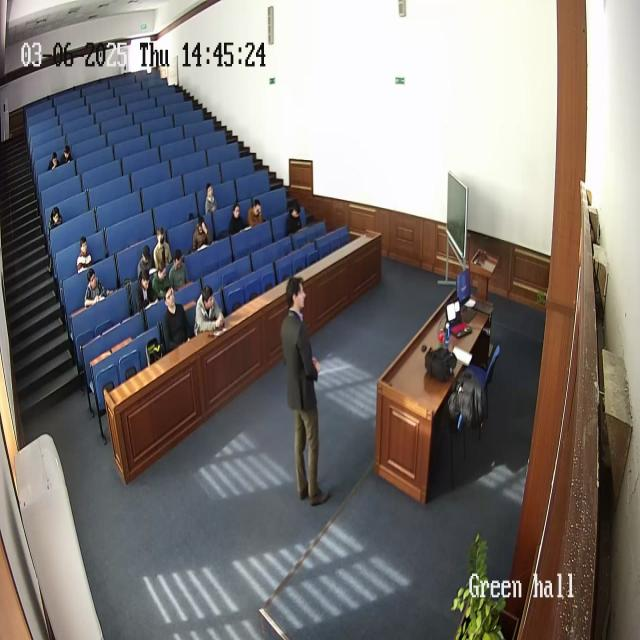person: (280, 273, 328, 503), (158, 283, 190, 353), (194, 285, 224, 335), (135, 267, 157, 313), (84, 268, 108, 308), (152, 253, 172, 299), (152, 226, 172, 269), (168, 248, 188, 289), (76, 238, 96, 275), (192, 216, 212, 252), (137, 245, 155, 283), (228, 202, 248, 235), (286, 202, 304, 235), (247, 197, 264, 227), (204, 183, 218, 217), (48, 207, 62, 231), (48, 150, 60, 172), (62, 145, 72, 163)
